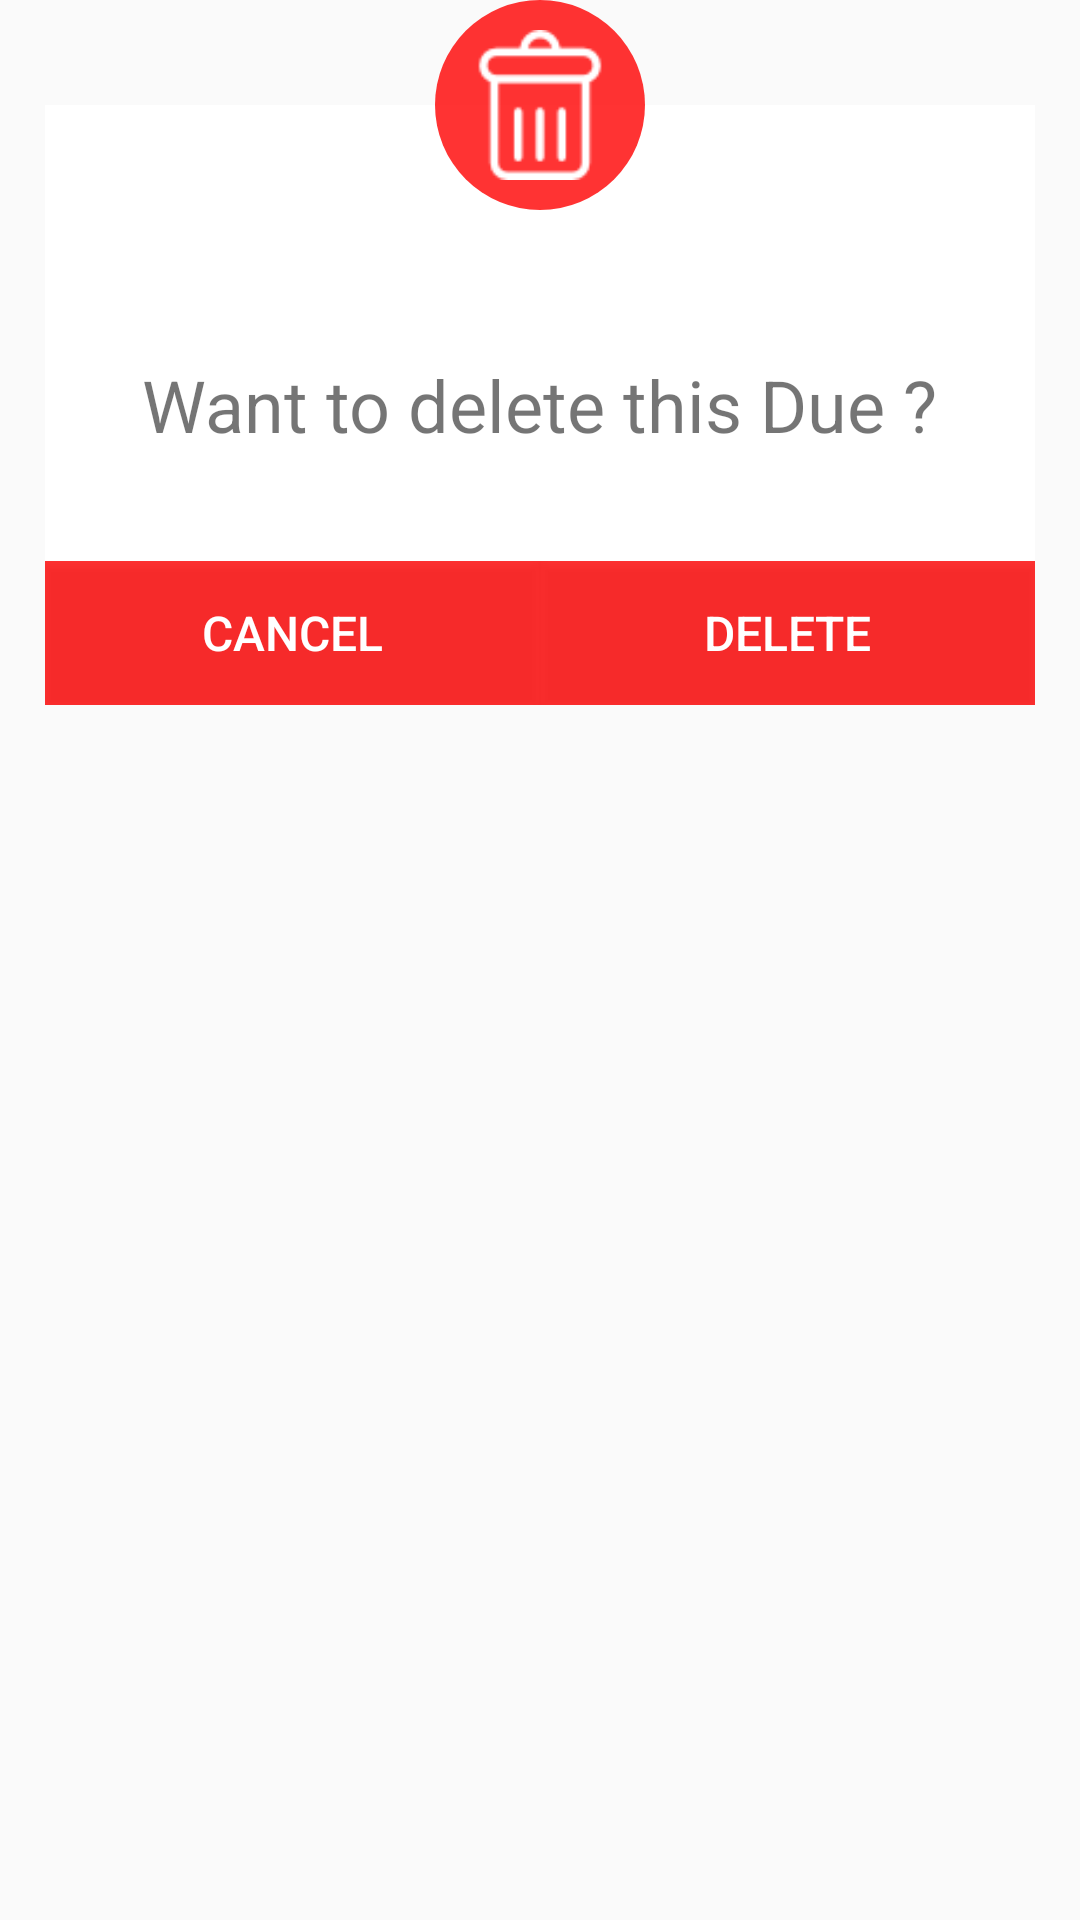

Icons on this 1080×1920 Android screen, each with the point to tap as [x,y]:
delete: [540,105]
